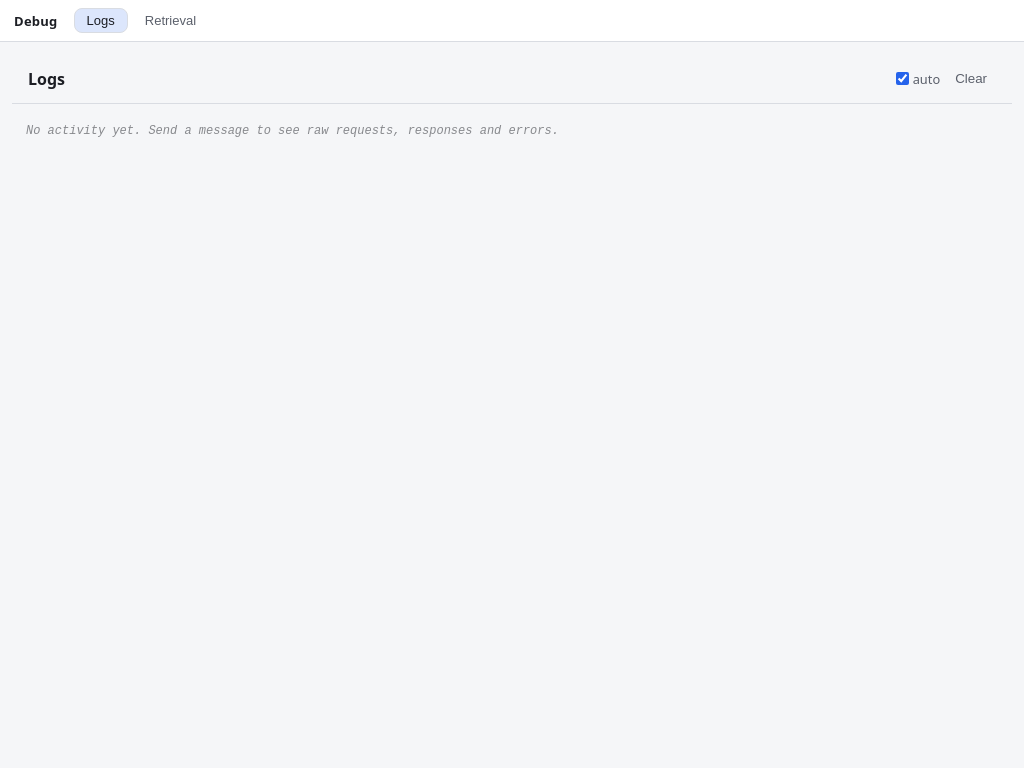
Test case: DebugApp (separate Debug window shell) › renders the Retrieval tab when selected
The width and height of the screenshot is (1024, 768).
What coordinates should you click on to do the following:
click the tab "Retrieval"
I would click on:
 (170, 20)
Its box is x1=132 y1=8 x2=209 y2=33.
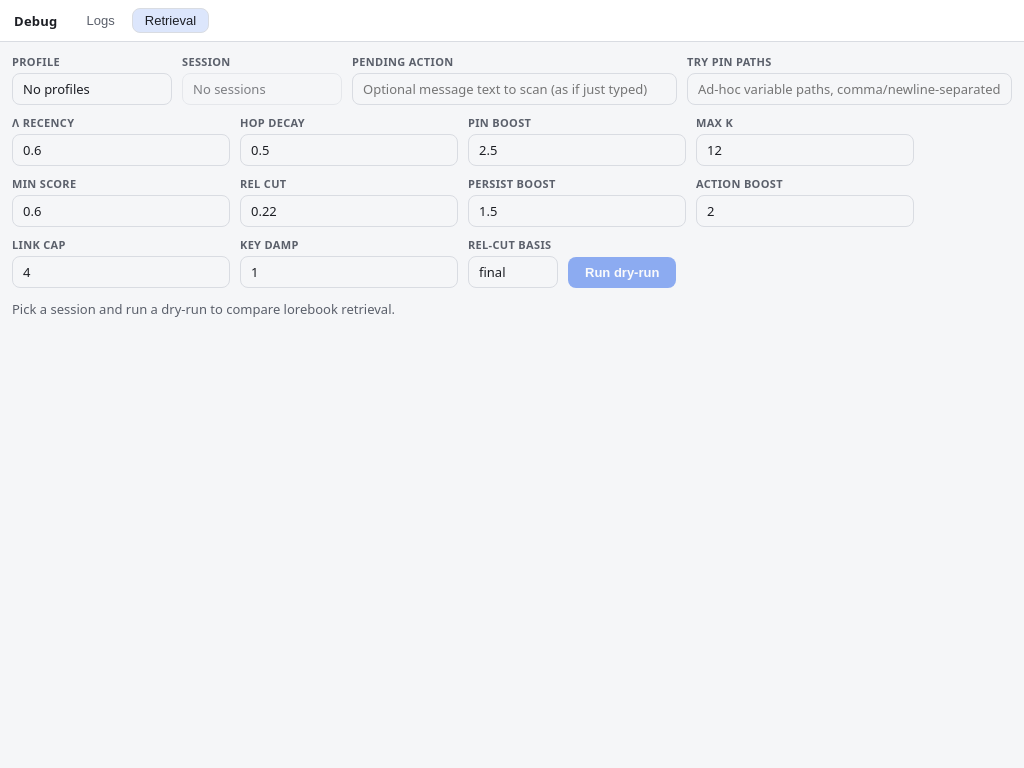
Expected: the button "Run dry-run" is shown, x1=568 y1=257 x2=676 y2=288
